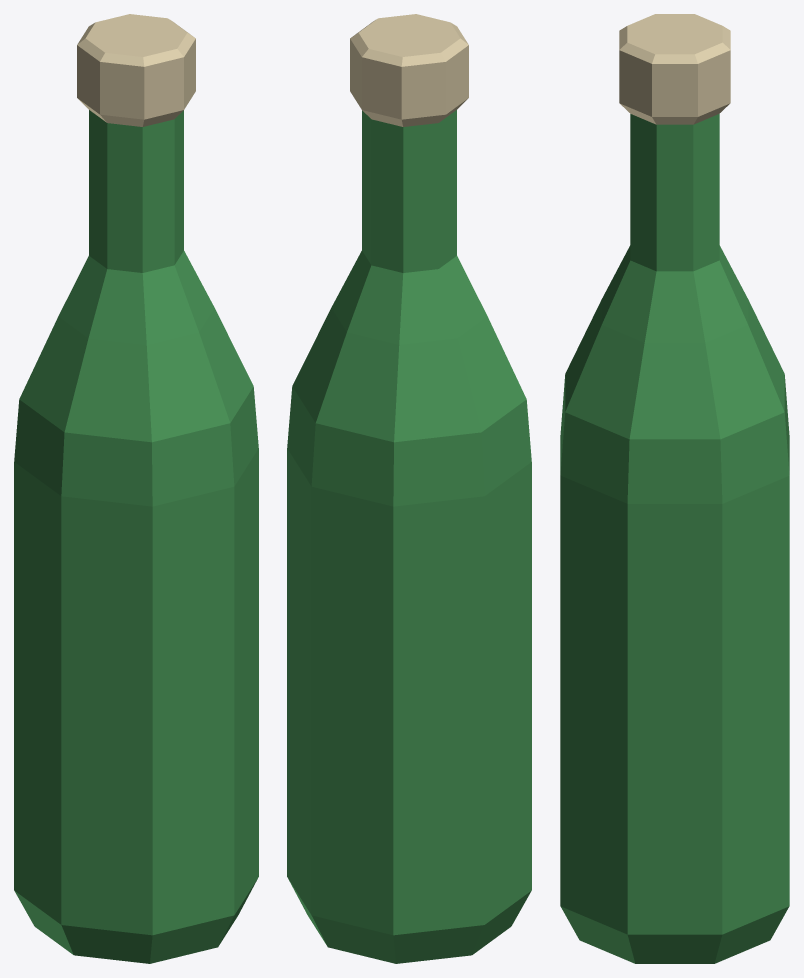
Rendered from SM_Clutter_Bottle_Jade_01.obj.
3 views of the same model, side by side, from view 1: azimuth 30°, elevation 25°; view 2: azimuth 150°, elevation 25°; view 3: azimuth 270°, elevation 25° (orthographic).
Visible parts, largest first — view 1: SM_Clutter_Bottle_Jade_01; view 2: SM_Clutter_Bottle_Jade_01; view 3: SM_Clutter_Bottle_Jade_01.
Part boxes in pixels (box(x1,y1,x2,y2)): SM_Clutter_Bottle_Jade_01: box(14, 14, 258, 963); SM_Clutter_Bottle_Jade_01: box(287, 14, 531, 963); SM_Clutter_Bottle_Jade_01: box(560, 14, 789, 963).
Size of the model in its own units: 0.0665 by 0.285 by 0.0665.
1 material, 1 textured.
